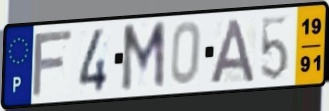0: (168, 20, 204, 89)
4: (76, 26, 110, 96)
5: (258, 13, 291, 81)
A: (208, 17, 258, 85)
F: (30, 28, 75, 101)
M: (119, 19, 168, 95)
